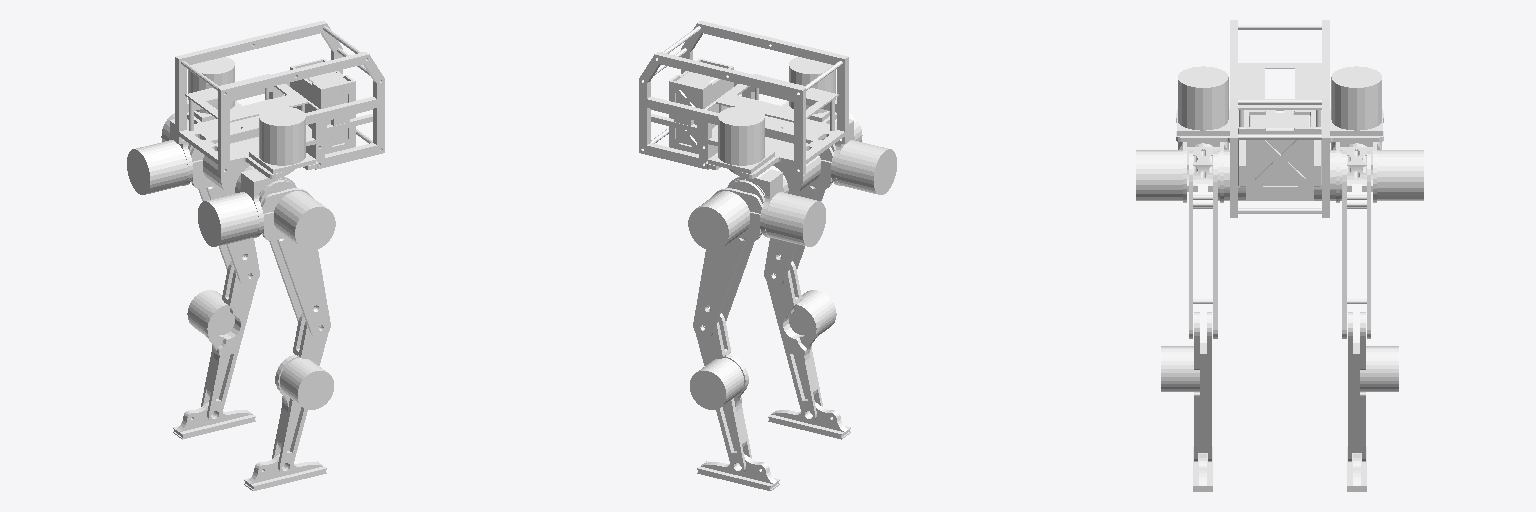
robot.urdf — livelybot_urdf:
<?xml version="1.0" encoding="utf-8"?>
<!--
This URDF was automatically created by SolidWorks to URDF Exporter! Originally created by [author] ([email redacted])
Commit Version: 1.6.0-4-g7f85cfe  Build Version: 1.6.7995.38578
For more information, please see http://wiki.ros.org/sw_urdf_exporter
-->
<robot name="livelybot_urdf">
	    <link name="base_link">
		<inertial>
			<origin xyz="0.042418 -5.836E-05 0.017336" rpy="0 0 0" />
			<mass value="0.63088" />
			<inertia ixx="0.0019802" ixy="3.6377E-08" ixz="3.091E-05" iyy="0.0011784" iyz="2.0119E-08" izz="0.0024461" />
		</inertial>
		<visual>
			<origin xyz="0 0 0" rpy="0 0 0" />
			<geometry>
				<mesh filename="package://livelybot_urdf/meshes/base_link.STL" />
			</geometry>
			<material name="">
				<color rgba="1 1 1 1" />
			</material>
		</visual>
		<collision>
			<origin xyz="0 0 0" rpy="0 0 0" />
			<geometry>
				<mesh filename="package://livelybot_urdf/meshes/base_link.STL" />
			</geometry>
		</collision>
	</link>
	<link name="imu_link">
		<inertial>
			<origin xyz="0.0137089490024808 -2.94548196346016E-05 -0.0923185931780866" rpy="0 0 0" />
			<mass value="0.0" />
			<inertia ixx="0.0" ixy="0.0" ixz="0.0" iyy="0.0" iyz="0.0" izz="0.0" />
		</inertial>
		<visual>
			<origin xyz="0 0 0" rpy="0 0 0" />
			<geometry>
        <box size="0.001 0.001 0.001" />
			</geometry>
			<material name="">
				<color rgba="1 1 1 1" />
			</material>
		</visual>
		<collision>
			<origin xyz="0 0 0" rpy="0 0 0" />
			<geometry>
        <box size="0.001 0.001 0.001" />
			</geometry>
		</collision>
	</link>
	<joint name="base_imu_joint" type="fixed">
		<origin xyz="0 0 0.00572" rpy="0 0 0" />
		<parent link="base_link" />
		<child link="imu_link" />
		<axis xyz="0 0 0" />
	</joint>
	<link name="L_hip">
		<inertial>
			<origin xyz="0.0560469785532357 -6.40933923989895E-09 0.0465742815241479" rpy="0 0 0" />
			<mass value="0.116884292970712" />
			<inertia ixx="3.7540266331977E-05" ixy="-9.42771492040107E-12" ixz="-4.36077137816932E-06" iyy="4.69555171175074E-05" iyz="-2.72493557400722E-12" izz="4.32454239525254E-05" />
		</inertial>
		<visual>
			<origin xyz="0 0 0" rpy="0 0 0" />
			<geometry>
				<mesh filename="package://livelybot_urdf/meshes/L_hip.STL" />
			</geometry>
			<material name="">
				<color rgba="1 1 1 1" />
			</material>
		</visual>
		<collision>
			<origin xyz="0 0 0" rpy="0 0 0" />
			<geometry>
				<mesh filename="package://livelybot_urdf/meshes/L_hip.STL" />
			</geometry>
		</collision>
	</link>
	<joint name="L_hip_joint" type="revolute">
		<origin xyz="0 0.075 0" rpy="3.1416 0 3.1416" />
		<parent link="base_link" />
		<child link="L_hip" />
		<axis xyz="0 0 1" />
		<limit lower="-0.55" upper="0.55" effort="20.0" velocity="20.0" />
	</joint>
	<link name="L_hip2">
		<inertial>
			<origin xyz="0.0309072230654156 -0.000858756081910141 0.0332451481987078" rpy="0 0 0" />
			<mass value="0.125448617656537" />
			<inertia ixx="5.53521193479647E-05" ixy="-3.56340330502834E-06" ixz="-1.93226894229574E-05" iyy="7.99417228381797E-05" iyz="-1.84997816876284E-06" izz="6.64062940642034E-05" />
		</inertial>
		<visual>
			<origin xyz="0 0 0" rpy="0 0 0" />
			<geometry>
				<mesh filename="package://livelybot_urdf/meshes/L_hip2.STL" />
			</geometry>
			<material name="">
				<color rgba="1 1 1 1" />
			</material>
		</visual>
		<collision>
			<origin xyz="0 0 0" rpy="0 0 0" />
			<geometry>
				<mesh filename="package://livelybot_urdf/meshes/L_hip2.STL" />
			</geometry>
		</collision>
	</link>
	<joint name="L_hip2_joint" type="revolute">
		<origin xyz="0.037 0 0.054" rpy="-1.5708 0 1.5708" />
		<parent link="L_hip" />
		<child link="L_hip2" />
		<axis xyz="0 0 1" />
		<limit lower="-0.18" upper="0.48" effort="20.0" velocity="20.0" />
	</joint>
	<link name="L_thigh">
		<inertial>
			<origin xyz="0.0223260729573922 3.03576608295941E-18 0.0400536863070936" rpy="0 0 0" />
			<mass value="0.137807983904981" />
			<inertia ixx="4.68049989970575E-05" ixy="-4.55991575251683E-20" ixz="3.01249192067359E-05" iyy="0.000231171478895831" iyz="8.22464509411909E-21" izz="0.000224309841397752" />
		</inertial>
		<visual>
			<origin xyz="0 0 0" rpy="0 0 0" />
			<geometry>
				<mesh filename="package://livelybot_urdf/meshes/L_thigh.STL" />
			</geometry>
			<material name="">
				<color rgba="1 1 1 1" />
			</material>
		</visual>
		<collision>
			<origin xyz="0 0 0" rpy="0 0 0" />
			<geometry>
				<mesh filename="package://livelybot_urdf/meshes/L_thigh.STL" />
			</geometry>
		</collision>
	</link>
	<joint name="L_thigh_joint" type="revolute">
		<origin xyz="0.0161 0 0.039" rpy="1.5708 -0.25 -1.5708" />
		<parent link="L_hip2" />
		<child link="L_thigh" />
		<axis xyz="0 0 1" />
		<limit lower="-0.44" upper="1.0" effort="20.0" velocity="20.0" />
	</joint>
	<link name="L_calf">
		<inertial>
			<origin xyz="0.0637217850662202 0.0045962102584563 0.0125678073048835" rpy="0 0 0" />
			<mass value="0.106343448636289" />
			<inertia ixx="2.00356805610283E-05" ixy="3.32248264945443E-07" ixz="-1.28437033439576E-07" iyy="0.000119450065875996" iyz="-6.40774201031294E-08" izz="0.000122526027150439" />
		</inertial>
		<visual>
			<origin xyz="0 0 0" rpy="0 0 0" />
			<geometry>
				<mesh filename="package://livelybot_urdf/meshes/L_calf.STL" />
			</geometry>
			<material name="">
				<color rgba="1 1 1 1" />
			</material>
		</visual>
		<collision>
			<origin xyz="0 0 0" rpy="0 0 0" />
			<geometry>
				<mesh filename="package://livelybot_urdf/meshes/L_calf.STL" />
			</geometry>
		</collision>
	</link>
	<joint name="L_calf_joint" type="revolute">
		<origin xyz="0.15 0 0.0161" rpy="-3.1416 0 -0.5" />
		<parent link="L_thigh" />
		<child link="L_calf" />
		<axis xyz="0 0 1" />
		<limit lower="0.0" upper="1.7" effort="20.0" velocity="20.0" />
	</joint>
	<link name="L_toe">
		<inertial>
			<origin xyz="0.000834584120334044 -0.0112941816613386 6.46892758804363E-09" rpy="0 0 0" />
			<mass value="0.0187301054238791" />
			<inertia ixx="1.17270430762399E-06" ixy="6.03537221578576E-07" ixz="1.89483242400211E-14" iyy="1.08896121231129E-05" iyz="3.6633857520274E-22" izz="1.12731889139232E-05" />
		</inertial>
		<visual>
			<origin xyz="0 0 0" rpy="0 0 0" />
			<geometry>
				<mesh filename="package://livelybot_urdf/meshes/L_toe.STL" />
			</geometry>
			<material name="">
				<color rgba="1 1 1 1" />
			</material>
		</visual>
		<collision>
			<origin xyz="0 0 0" rpy="0 0 0" />
			<geometry>
				<mesh filename="package://livelybot_urdf/meshes/L_toe.STL" />
			</geometry>
		</collision>
	</link>
	<joint name="L_toe_joint" type="revolute">
		<origin xyz="0.16 0 0" rpy="-3.1416 0 -1.8208" />
		<parent link="L_calf" />
		<child link="L_toe" />
		<axis xyz="0 0 1" />
		<limit lower="-0.85" upper="1.0" effort="20.0" velocity="20.0" />
	</joint>
	<link name="R_hip">
		<inertial>
			<origin xyz="0.0560469785532357 -6.40933922602116E-09 0.0465742815241478" rpy="0 0 0" />
			<mass value="0.116884292970712" />
			<inertia ixx="3.7540266331977E-05" ixy="-9.42771492313437E-12" ixz="-4.36077137816932E-06" iyy="4.69555171175074E-05" iyz="-2.72493557242105E-12" izz="4.32454239525254E-05" />
		</inertial>
		<visual>
			<origin xyz="0 0 0" rpy="0 0 0" />
			<geometry>
				<mesh filename="package://livelybot_urdf/meshes/R_hip.STL" />
			</geometry>
			<material name="">
				<color rgba="1 1 1 1" />
			</material>
		</visual>
		<collision>
			<origin xyz="0 0 0" rpy="0 0 0" />
			<geometry>
				<mesh filename="package://livelybot_urdf/meshes/R_hip.STL" />
			</geometry>
		</collision>
	</link>
	<joint name="R_hip_joint" type="revolute">
		<origin xyz="0 -0.075 0" rpy="3.1416 0 3.1416" />
		<parent link="base_link" />
		<child link="R_hip" />
		<axis xyz="0 0 1" />
		<limit lower="-0.55" upper="0.55" effort="20.0" velocity="20.0" />
	</joint>
	<link name="R_hip2">
		<inertial>
			<origin xyz="0.0309072116551233 0.000858757175953094 0.0332451451614201" rpy="0 0 0" />
			<mass value="0.125448645563517" />
			<inertia ixx="5.53521261009191E-05" ixy="3.56340110481497E-06" ixz="-1.93227169282725E-05" iyy="7.99417985454008E-05" iyz="1.8499802142557E-06" izz="6.64063646851793E-05" />
		</inertial>
		<visual>
			<origin xyz="0 0 0" rpy="0 0 0" />
			<geometry>
				<mesh filename="package://livelybot_urdf/meshes/R_hip2.STL" />
			</geometry>
			<material name="">
				<color rgba="1 1 1 1" />
			</material>
		</visual>
		<collision>
			<origin xyz="0 0 0" rpy="0 0 0" />
			<geometry>
				<mesh filename="package://livelybot_urdf/meshes/R_hip2.STL" />
			</geometry>
		</collision>
	</link>
	<joint name="R_hip2_joint" type="revolute">
		<origin xyz="0.037 0 0.054" rpy="1.5708 0 -1.5708" />
		<parent link="R_hip" />
		<child link="R_hip2" />
		<axis xyz="0 0 1" />
		<limit lower="-0.48" upper="0.18" effort="20.0" velocity="20.0" />
	</joint>
	<link name="R_thigh">
		<inertial>
			<origin xyz="0.0223260729573922 4.33680868994202E-19 0.0400536863070936" rpy="0 0 0" />
			<mass value="0.137807983904981" />
			<inertia ixx="4.68049989970575E-05" ixy="1.39680883168296E-21" ixz="3.01249192067358E-05" iyy="0.00023117147889583" iyz="1.89032544259718E-21" izz="0.000224309841397752" />
		</inertial>
		<visual>
			<origin xyz="0 0 0" rpy="0 0 0" />
			<geometry>
				<mesh filename="package://livelybot_urdf/meshes/R_thigh.STL" />
			</geometry>
			<material name="">
				<color rgba="1 1 1 1" />
			</material>
		</visual>
		<collision>
			<origin xyz="0 0 0" rpy="0 0 0" />
			<geometry>
				<mesh filename="package://livelybot_urdf/meshes/R_thigh.STL" />
			</geometry>
		</collision>
	</link>
	<joint name="R_thigh_joint" type="revolute">
		<origin xyz="0.0161 0 0.039" rpy="-1.5708 -0.25 1.5708" />
		<parent link="R_hip2" />
		<child link="R_thigh" />
		<axis xyz="0 0 1" />
		<limit lower="-1.0" upper="0.44" effort="20.0" velocity="20.0" />
	</joint>
	<link name="R_calf">
		<inertial>
			<origin xyz="0.0637217850662202 -0.00459621025845629 0.0125678073048835" rpy="0 0 0" />
			<mass value="0.106343448636289" />
			<inertia ixx="2.00356805610283E-05" ixy="-3.32248264945435E-07" ixz="-1.28437033439581E-07" iyy="0.000119450065875996" iyz="6.40774201031356E-08" izz="0.000122526027150439" />
		</inertial>
		<visual>
			<origin xyz="0 0 0" rpy="0 0 0" />
			<geometry>
				<mesh filename="package://livelybot_urdf/meshes/R_calf.STL" />
			</geometry>
			<material name="">
				<color rgba="1 1 1 1" />
			</material>
		</visual>
		<collision>
			<origin xyz="0 0 0" rpy="0 0 0" />
			<geometry>
				<mesh filename="package://livelybot_urdf/meshes/R_calf.STL" />
			</geometry>
		</collision>
	</link>
	<joint name="R_calf_joint" type="revolute">
		<origin xyz="0.15 0 0.0161" rpy="3.1416 0 0.5" />
		<parent link="R_thigh" />
		<child link="R_calf" />
		<axis xyz="0 0 1" />
		<limit lower="-1.7" upper="0" effort="20.0" velocity="20.0" />
	</joint>
	<link name="R_toe">
		<inertial>
			<origin xyz="0.000834580136385862 0.0112941643085711 1.02338218316289E-08" rpy="0 0 0" />
			<mass value="0.0187301054238791" />
			<inertia ixx="1.17270430762399E-06" ixy="-6.03537221578577E-07" ixz="-1.89483250885368E-14" iyy="1.08896121231129E-05" iyz="3.50870101460927E-22" izz="1.12731889139232E-05" />
		</inertial>
		<visual>
			<origin xyz="0 0 0" rpy="0 0 0" />
			<geometry>
				<mesh filename="package://livelybot_urdf/meshes/R_toe.STL" />
			</geometry>
			<material name="">
				<color rgba="1 1 1 1" />
			</material>
		</visual>
		<collision>
			<origin xyz="0 0 0" rpy="0 0 0" />
			<geometry>
				<mesh filename="package://livelybot_urdf/meshes/R_toe.STL" />
			</geometry>
		</collision>
	</link>
	<joint name="R_toe_joint" type="revolute">
		<origin xyz="0.16 0 0" rpy="3.1416 0 1.8208" />
		<parent link="R_calf" />
		<child link="R_toe" />
		<axis xyz="0 0 1" />
		<limit lower="-1.0" upper="0.85" effort="20.0" velocity="20.0" />
	</joint>
</robot>

--- Render facts (derived) ---
Views: 3 orthographic renders of the robot side by side, from view 1: azimuth 30°, elevation 25°; view 2: azimuth 150°, elevation 25°; view 3: azimuth 270°, elevation 25°.
Model livelybot_urdf with 12 links and 11 joints (10 revolute, 1 fixed), rooted at base_link, posed all joints at 0.
Visible links, largest first — view 1: base_link, L_calf, R_calf, R_thigh, R_hip, R_hip2, L_hip, L_thigh, L_toe, R_toe, L_hip2; view 2: base_link, R_calf, L_calf, L_thigh, L_hip, L_hip2, R_hip, R_thigh, R_toe, L_toe, R_hip2; view 3: base_link, L_calf, R_calf, L_hip2, R_hip2, L_thigh, R_thigh, L_toe, R_toe.
Link boxes in pixels (x1=…): base_link: x1=175, y1=21, x2=384, y2=178; L_calf: x1=187, y1=261, x2=256, y2=421; R_calf: x1=272, y1=313, x2=333, y2=473; R_thigh: x1=235, y1=166, x2=330, y2=338; R_hip: x1=198, y1=169, x2=294, y2=246; R_hip2: x1=260, y1=176, x2=335, y2=250; L_hip: x1=127, y1=119, x2=192, y2=194; L_thigh: x1=188, y1=138, x2=259, y2=286; L_toe: x1=173, y1=402, x2=255, y2=439; R_toe: x1=244, y1=454, x2=326, y2=490; L_hip2: x1=161, y1=113, x2=214, y2=188; base_link: x1=639, y1=21, x2=848, y2=178; R_calf: x1=767, y1=261, x2=836, y2=421; L_calf: x1=690, y1=313, x2=751, y2=473; L_thigh: x1=693, y1=166, x2=788, y2=337; L_hip: x1=729, y1=169, x2=825, y2=246; L_hip2: x1=688, y1=176, x2=763, y2=250; R_hip: x1=831, y1=119, x2=896, y2=194; R_thigh: x1=764, y1=138, x2=835, y2=286; R_toe: x1=768, y1=402, x2=850, y2=439; L_toe: x1=697, y1=454, x2=779, y2=490; R_hip2: x1=809, y1=113, x2=862, y2=188; base_link: x1=1176, y1=20, x2=1383, y2=217; L_calf: x1=1348, y1=312, x2=1398, y2=461; R_calf: x1=1161, y1=312, x2=1211, y2=461; L_hip2: x1=1336, y1=142, x2=1423, y2=202; R_hip2: x1=1136, y1=142, x2=1223, y2=202; L_thigh: x1=1314, y1=150, x2=1370, y2=338; R_thigh: x1=1189, y1=150, x2=1245, y2=338; L_toe: x1=1347, y1=447, x2=1366, y2=491; R_toe: x1=1193, y1=447, x2=1212, y2=491.
Size in the robot's own frame: 0.2295 by 0.2822 by 0.4573 metres.
11 mesh visuals loaded from 11 distinct referenced files (11 binary STL).